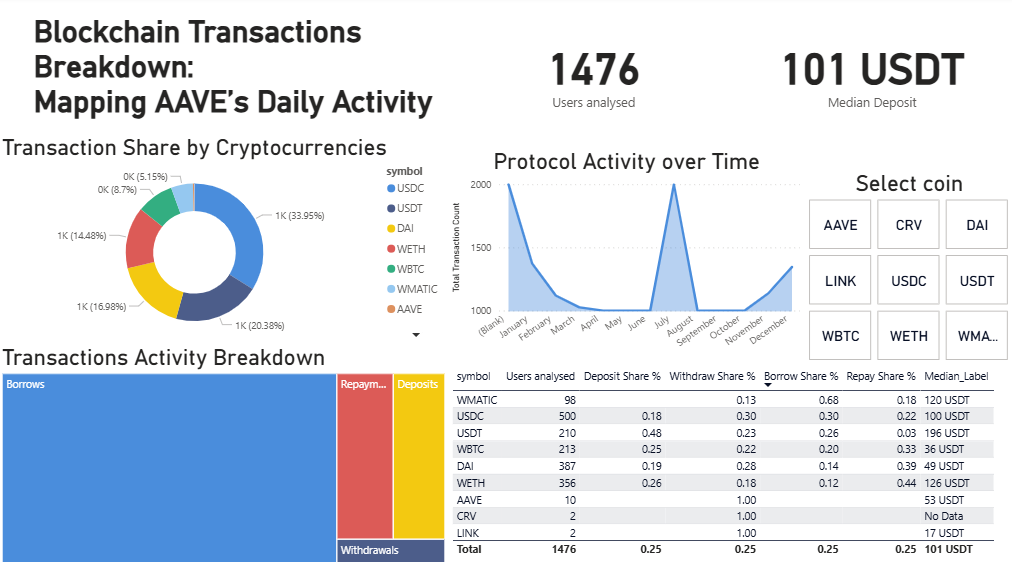

This screenshot's page, from the dashboard's own definition file:
{"tool":"powerbi","page":{"name":"Page 1","canvas":[1280,720],"ordinal":0},"visuals":[{"type":"areaChart","title":"Protocol Activity over Time","fields":{"Y":["0701newlogsDeFi (2).Total Transaction Count"],"Category":["Calendar.Date.Variation.Date Hierarchy.Year","Calendar.Date.Variation.Date Hierarchy.Month","Calendar.Date.Variation.Date Hierarchy.Day"]},"box":[567.5,192.5,450,272.5],"z":0},{"type":"donutChart","title":"Transaction Share by Cryptocurrencies","fields":{"Category":["All_Symbols.symbol"],"Y":["0701newlogsDeFi.Total Coin Occurrences"]},"box":[0,175,567.5,265],"z":1000},{"type":"card","fields":{"Values":["0701newlogsDeFi.Users analysed"]},"box":[566.9,0,366.6,192.8],"z":2000},{"type":"card","fields":{"Values":["0701newlogsDeFi.Median_Label"]},"box":[922.5,0,357.5,192.5],"z":3000},{"type":"treemap","title":"Transactions Activity Breakdown","fields":{"Values":["Fact_Borrow.TotBinUSDT","Fact_Withdraw.TotWinUSDT","Fact_Deposit.TotDinUSDT","Fact_Repay.TotRinUSDT"]},"box":[0,440,567.5,280],"z":4000},{"type":"tableEx","fields":{"Values":["All_Symbols.symbol","0701newlogsDeFi.Users analysed","Fact_Deposit.Deposit Share %","Fact_Withdraw.Withdraw Share %","Fact_Borrow.Borrow Share %","Fact_Repay.Repay Share %","0701newlogsDeFi.Median_Label"]},"box":[567.5,465,712.5,255],"z":5000},{"type":"advancedSlicerVisual","title":"Select coin","fields":{"Values":["All_Symbols.symbol"]},"box":[1016.7,221.1,262.7,243.8],"z":6000},{"type":"textbox","box":[0,0,566.9,175.7],"z":7000}]}

Visuals, with their boxes in screenshot pixels (x1, y1, x2, y2), scaled from the page's 1280x720 canvas onto the 1012x562 screenshot:
"Protocol Activity over Time" areaChart: Rect(449, 150, 804, 363)
"Transaction Share by Cryptocurrencies" donutChart: Rect(0, 137, 449, 343)
card - 0701newlogsDeFi.Users analysed: Rect(448, 0, 738, 150)
card - 0701newlogsDeFi.Median_Label: Rect(729, 0, 1011, 150)
"Transactions Activity Breakdown" treemap: Rect(0, 343, 449, 561)
tableEx - All_Symbols.symbol x 0701newlogsDeFi.Users analysed: Rect(449, 363, 1011, 561)
"Select coin" advancedSlicerVisual: Rect(804, 173, 1011, 363)
textbox: Rect(0, 0, 448, 137)
